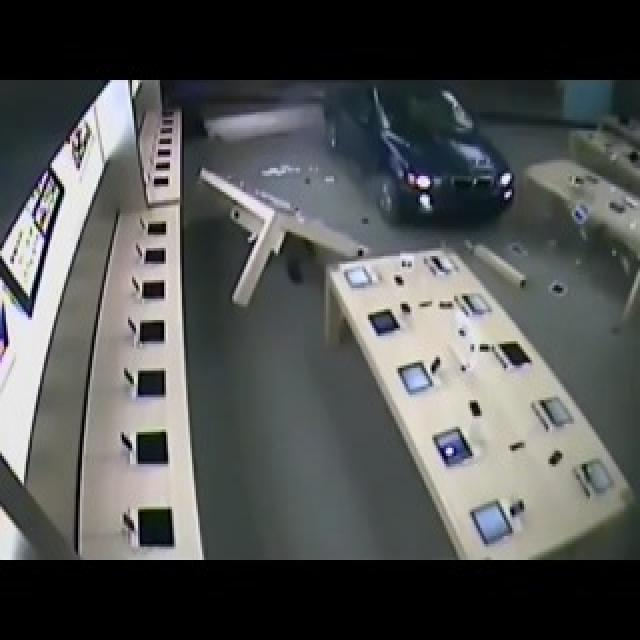burglary: (318, 83, 526, 243)
